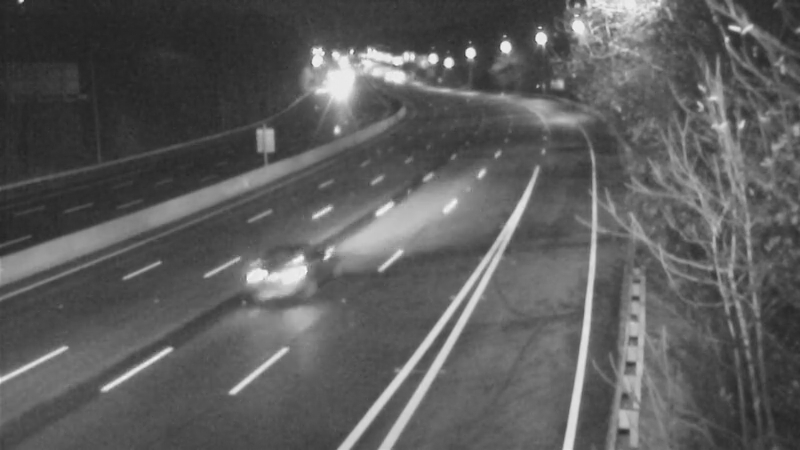vehicle: (238, 234, 318, 314), (312, 60, 362, 110)
